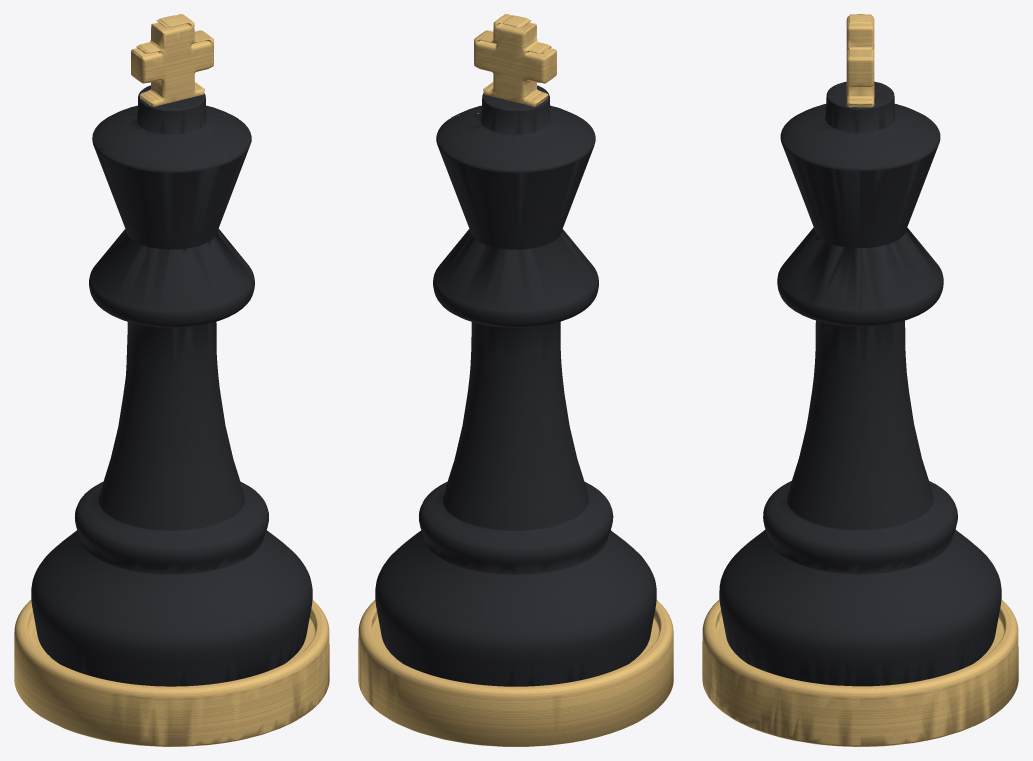
File: king-black-hd.glb
The picture shows the model from 3 angles, left to right: view 1: azimuth 30°, elevation 25°; view 2: azimuth 150°, elevation 25°; view 3: azimuth 270°, elevation 25°; orthographic projection.
Visible parts, largest first — view 1: Aurum Noir – King; view 2: Aurum Noir – King; view 3: Aurum Noir – King.
Boxes of the visible parts, x1,y1,x2,y2 form: Aurum Noir – King: [14, 14, 329, 746]; Aurum Noir – King: [358, 14, 673, 746]; Aurum Noir – King: [702, 14, 1018, 746].
Bounding box in the file's own units: 0.7141 × 1.65 × 0.7139.
2 materials, 1 textured.
